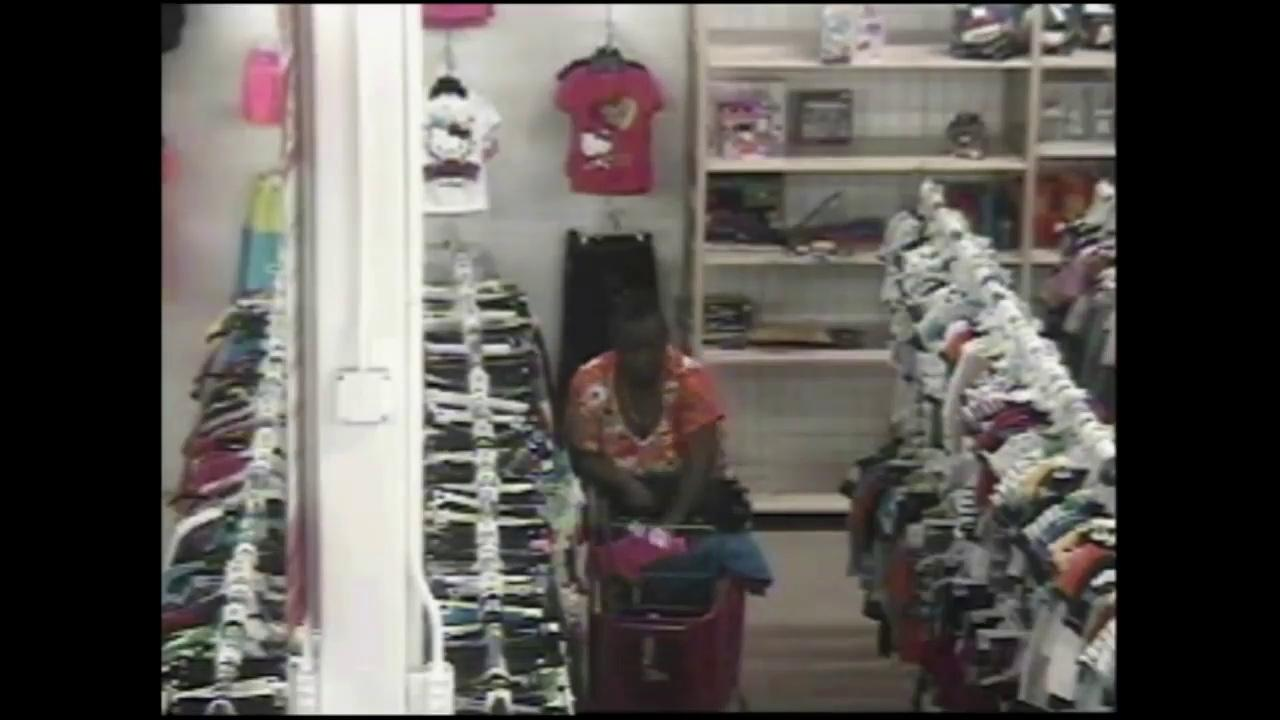Customer-Bagpack: (597, 458, 745, 531)
Regular: (518, 240, 814, 651)
